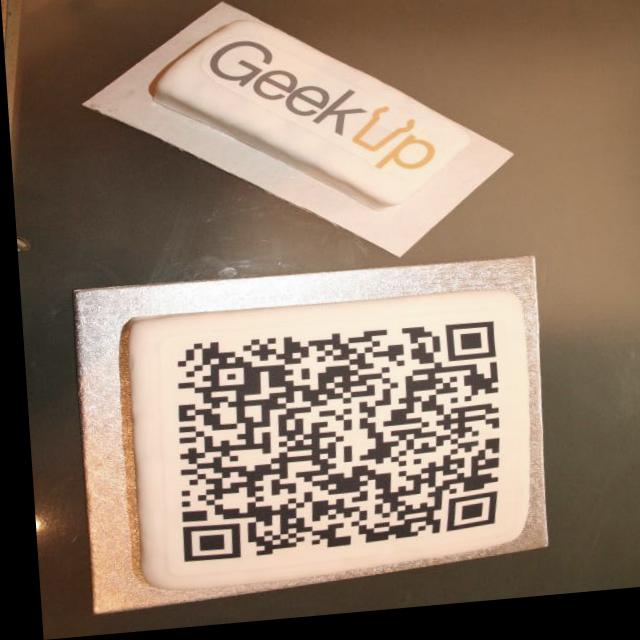qrcode: (166, 326, 499, 566)
